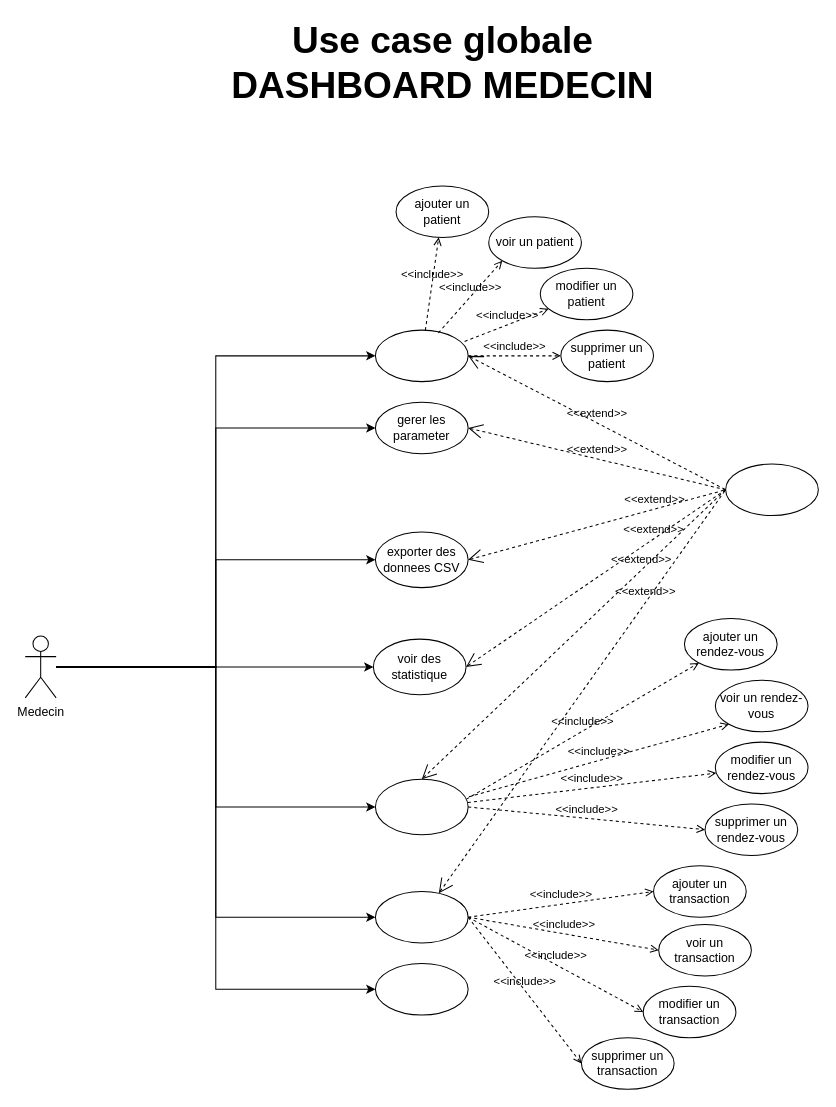
Image size: 836x1107. Some labels were removed from this diagram. Here are the shapes that lost their labels. From the top down, the centre of each, then its label:
At (x=421, y=355): "gerer les patients".
At (x=771, y=489): "login".
At (x=421, y=806): "gerer les rendez-vous".
At (x=421, y=916): "gerer les transaction".
At (x=421, y=989): "inscription".
